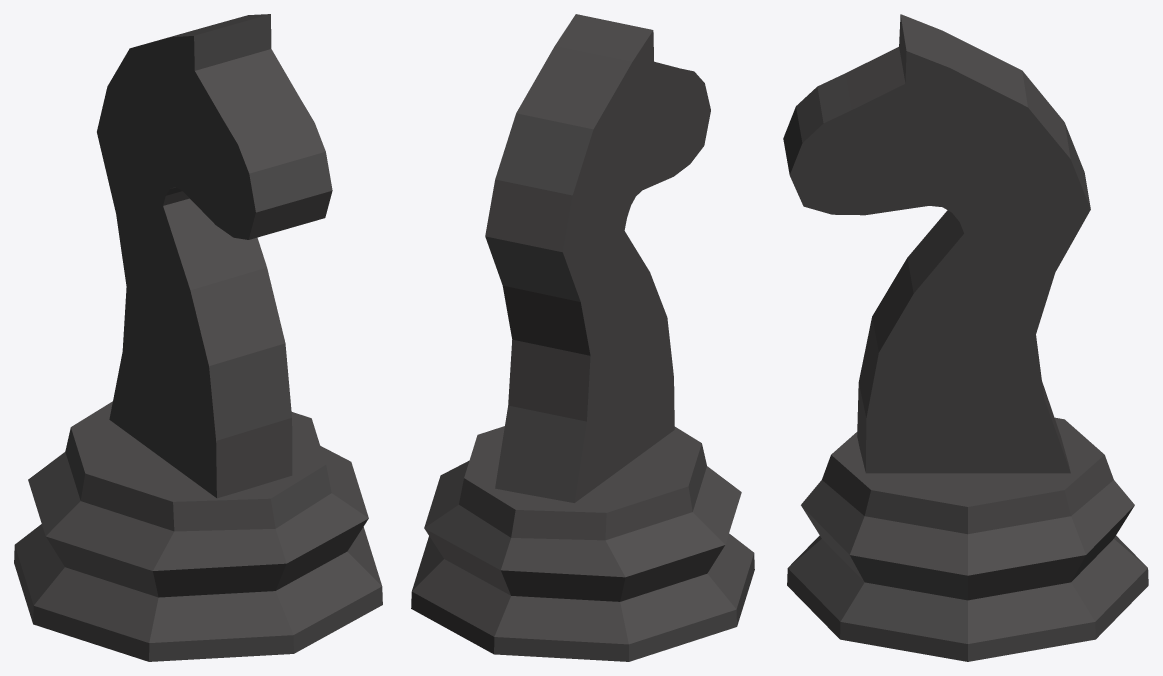
Rendered from Chess_Black_Horse_1.fbx.
3 renders of one model, left to right at view 1: azimuth 30°, elevation 25°; view 2: azimuth 150°, elevation 25°; view 3: azimuth 270°, elevation 25°, orthographic. The views are drawn at different scales.
Parts seen in each view (by area): view 1: Chess_Black_Horse_1; view 2: Chess_Black_Horse_1; view 3: Chess_Black_Horse_1.
Part boxes in pixels (x1,y1,x2,y2): Chess_Black_Horse_1: (14,14,382,661); Chess_Black_Horse_1: (411,14,754,661); Chess_Black_Horse_1: (783,14,1148,661).
Bounding box in the file's own units: 3.76 × 3.8 × 6.34.
